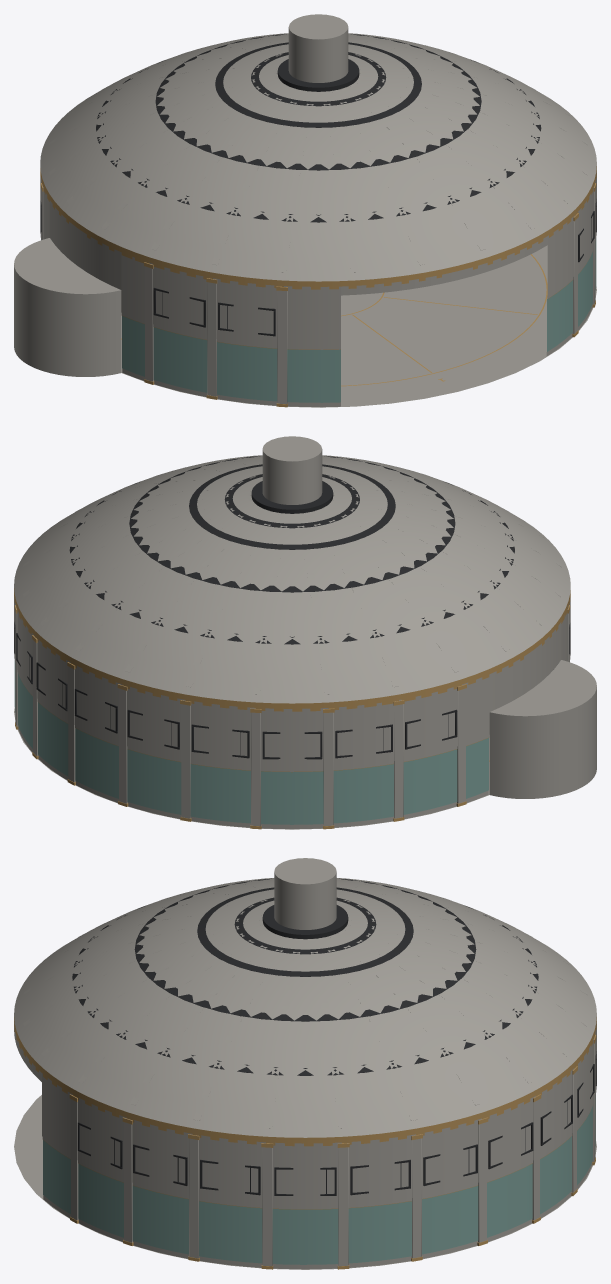
The model's file is shell_hall.glb.
The picture shows the model from 3 angles, top to bottom: view 1: azimuth 30°, elevation 25°; view 2: azimuth 150°, elevation 25°; view 3: azimuth 270°, elevation 25°; orthographic projection. The views are drawn at different scales.
Visible parts, largest first — view 1: hall_vault, hall_walls, hall_floor, hall_dado, hall_trim, hall_brass; view 2: hall_vault, hall_walls, hall_dado, hall_trim, hall_brass, hall_floor; view 3: hall_vault, hall_walls, hall_dado, hall_trim, hall_brass, hall_floor.
Part boxes in pixels (x1,y1,x2,y2): hall_vault: [40, 14, 596, 281]; hall_walls: [14, 172, 596, 407]; hall_floor: [63, 245, 596, 407]; hall_dado: [122, 239, 596, 402]; hall_trim: [40, 34, 596, 336]; hall_brass: [40, 166, 596, 407]; hall_vault: [14, 436, 570, 703]; hall_walls: [14, 596, 596, 829]; hall_dado: [14, 661, 488, 824]; hall_trim: [14, 456, 570, 759]; hall_brass: [14, 588, 570, 829]; hall_floor: [14, 676, 547, 829]; hall_vault: [14, 858, 596, 1137]; hall_walls: [14, 1023, 596, 1269]; hall_dado: [43, 1095, 595, 1264]; hall_trim: [72, 878, 596, 1195]; hall_brass: [14, 1017, 596, 1269]; hall_floor: [14, 1095, 596, 1269].
Bounding box in the file's own units: 31.13 × 14.6 × 28.
